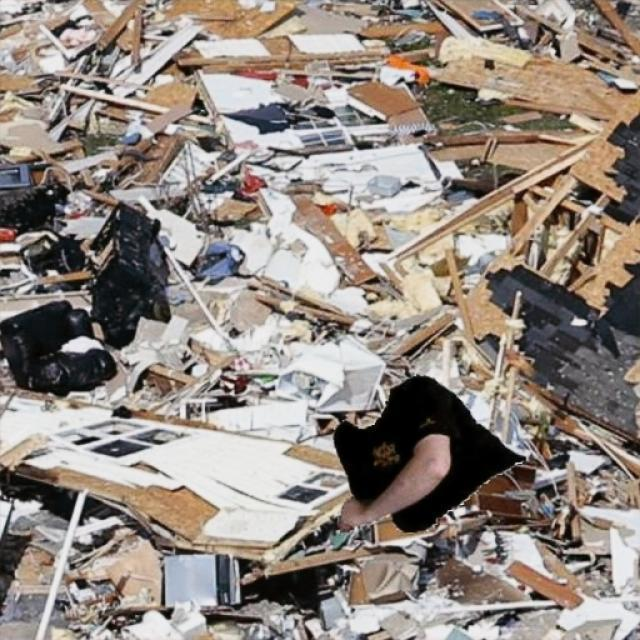Person in Rubble: (331, 374, 525, 532)
